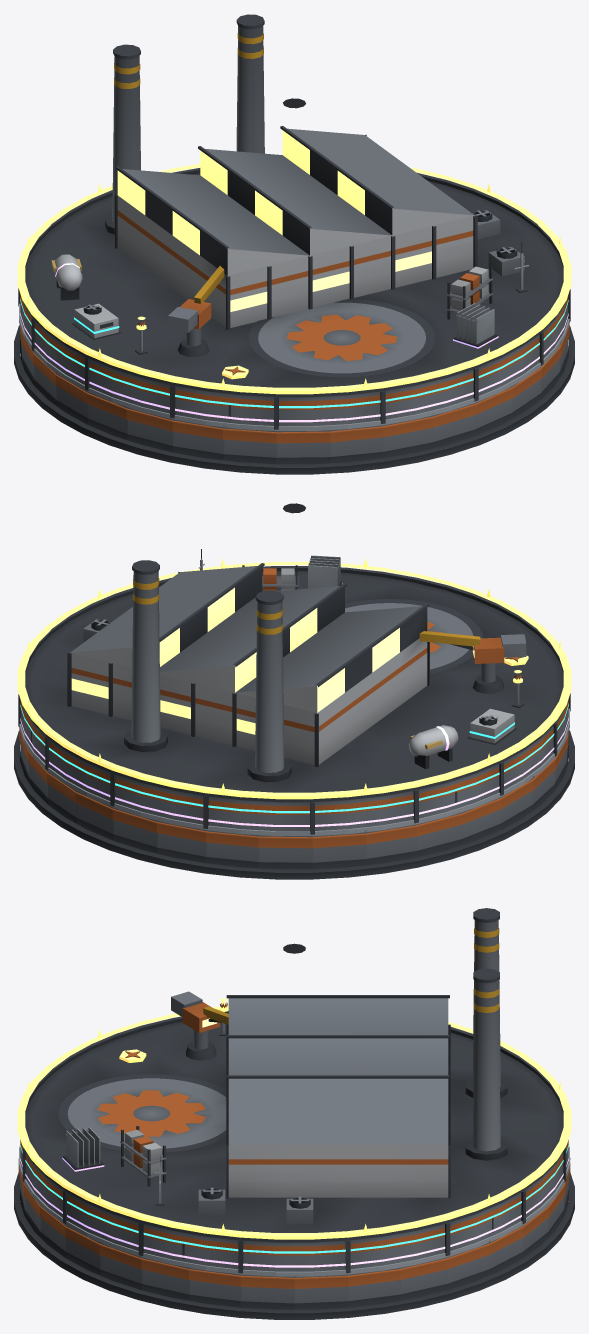
File: workshop_l_far.glb
3 views of the same model, one above another, from view 1: azimuth 30°, elevation 25°; view 2: azimuth 150°, elevation 25°; view 3: azimuth 270°, elevation 25° (orthographic).
Visible parts, largest first — view 1: Roof, Base, L5, L4, L2, L3; view 2: Roof, Base, L5, L4, L2, L3; view 3: Roof, Base, L5, L2, L4, L3.
Part boxes in pixels (x1,y1,x2,y2): Roof: (18,14,570,429); Base: (14,324,574,474); L5: (17,164,571,394); L4: (20,254,568,422); L2: (19,242,569,430); L3: (20,298,568,408); Roof: (18,503,570,834); Base: (14,729,574,879); L5: (17,559,571,799); L4: (20,555,568,826); L2: (19,549,569,835); L3: (20,703,568,813); Roof: (20,908,568,1273); Base: (14,1158,574,1319); L5: (17,998,571,1239); L2: (19,1146,569,1276); L4: (20,1127,568,1267); L3: (20,1144,568,1253).
Size of the model in its own units: 18.96 by 9.42 by 18.96.
